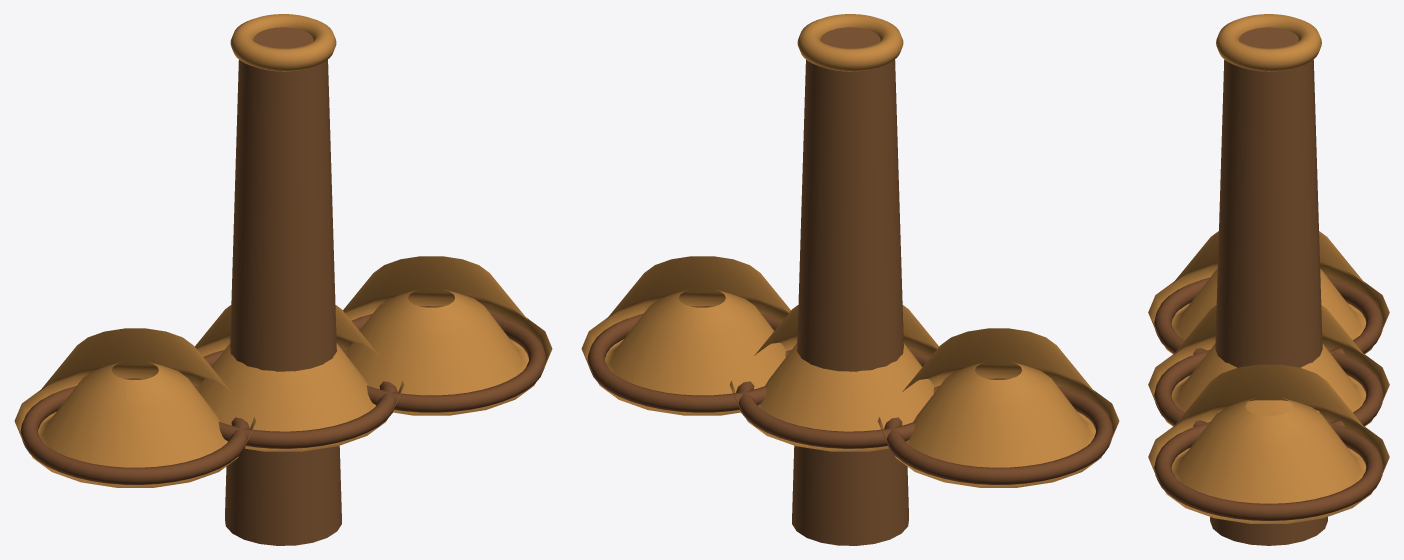
File: mia-bell.glb
The picture shows the model from 3 angles, left to right: view 1: azimuth 30°, elevation 25°; view 2: azimuth 150°, elevation 25°; view 3: azimuth 270°, elevation 25°; orthographic projection.
Visible parts, largest first — view 1: Body_brass, Body_oak, Body_rust; view 2: Body_brass, Body_oak, Body_rust; view 3: Body_brass, Body_oak, Body_rust.
Part boxes in pixels (x1,y1,x2,y2): Body_brass: (14,14,552,487); Body_oak: (225,27,341,545); Body_rust: (20,306,546,484); Body_brass: (581,14,1119,487); Body_oak: (792,27,908,545); Body_rust: (587,306,1113,484); Body_brass: (1148,14,1389,523); Body_oak: (1210,27,1327,545); Body_rust: (1154,277,1383,520).
Bounding box in the file's own units: 0.1968 × 0.1829 × 0.082.
